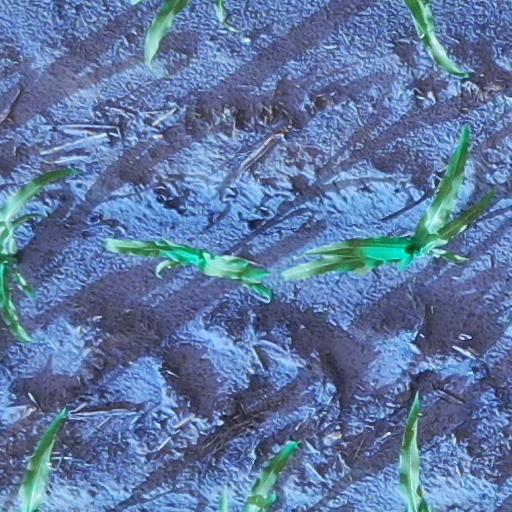planta: (277, 121, 495, 285), (100, 231, 277, 303)
